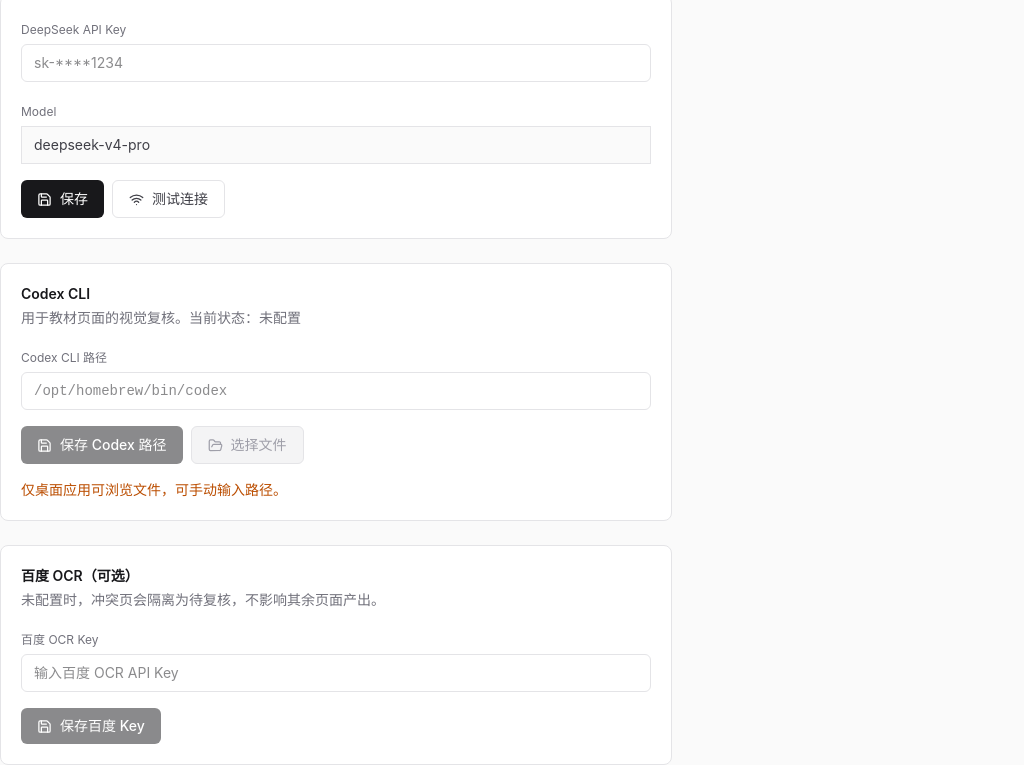
Test: saves the baidu key
(page scrolled)
Type "baidu-key-1234" into the password field labelled "百度 OCR Key". click: (336, 673)
box: [21,654,651,692]
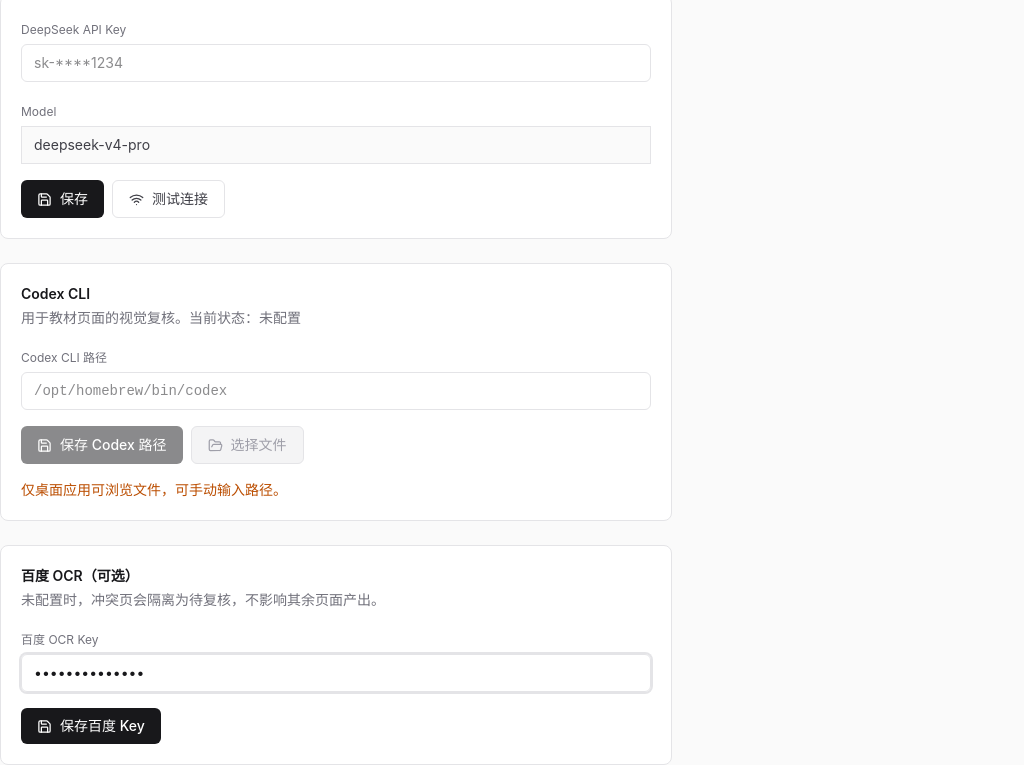
Click the button "保存百度 Key". click: (91, 726)
box: [21,708,161,744]
(page scrolled)
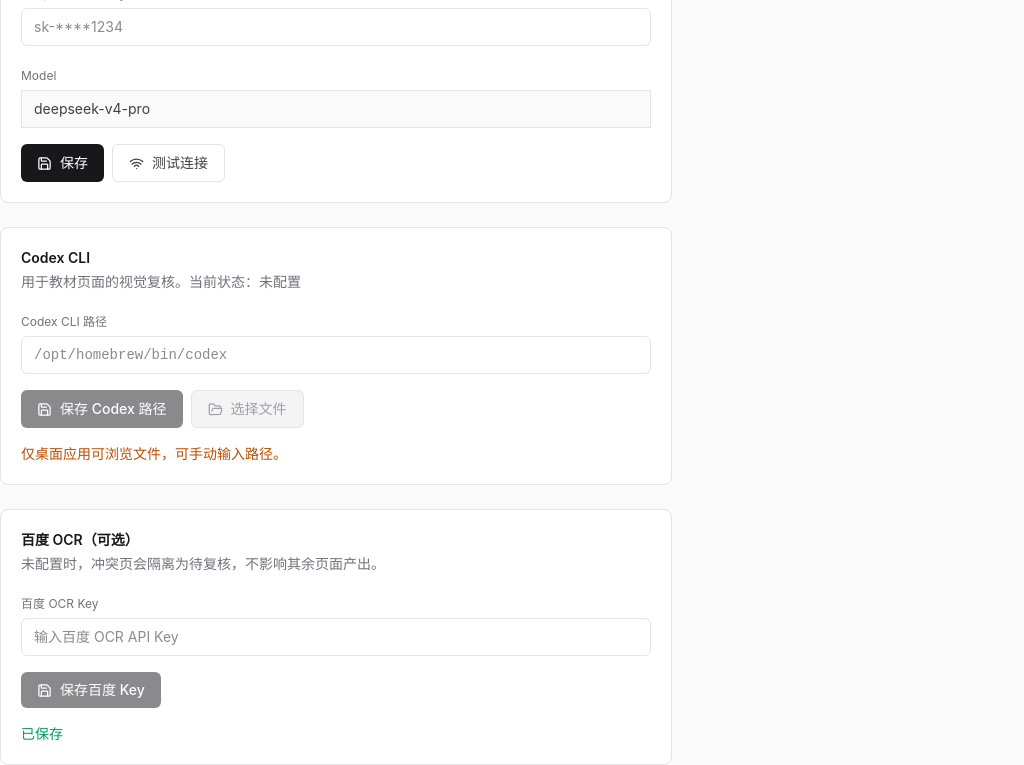
Expected: the text "已保存" is shown, [21,725,63,742]
